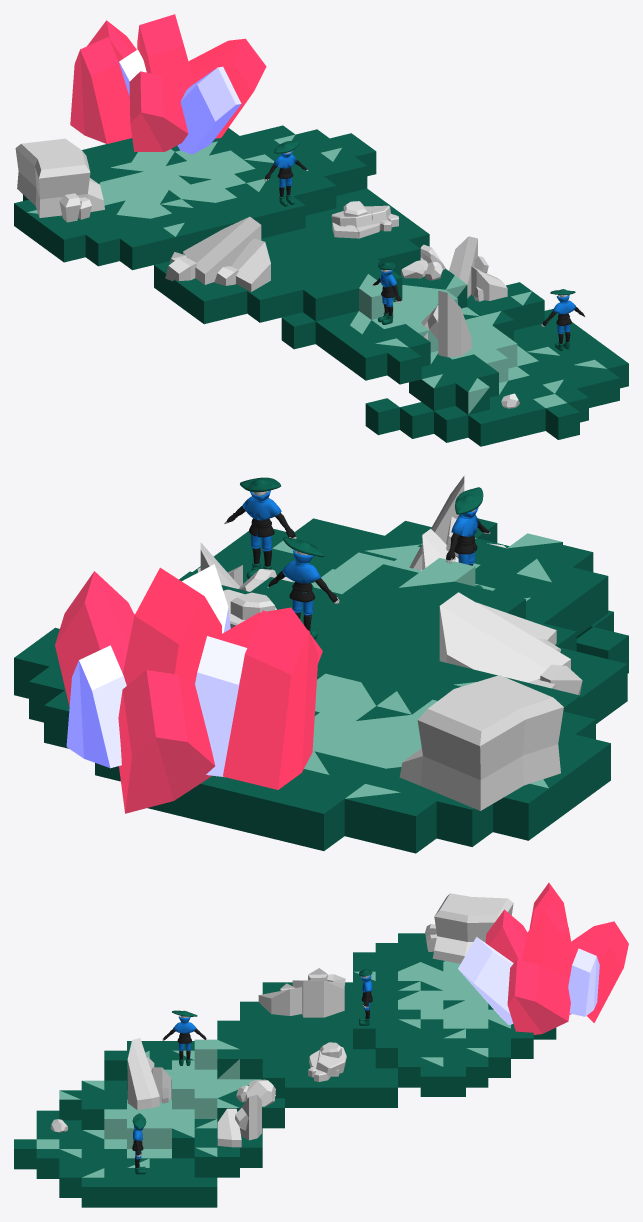
The model's file is Test Map_blocky_01_with perso 1.fbx.
The picture shows the model from 3 angles, top to bottom: view 1: azimuth 30°, elevation 25°; view 2: azimuth 150°, elevation 25°; view 3: azimuth 270°, elevation 25°; orthographic projection. The views are drawn at different scales.
Parts seen in each view (by area): view 1: Rock_Type3_04_mesh, Rock_Type6_03_mesh, Rock_Type5_01_mesh, Rock_Type5_03_mesh.001, Rock_Type5_03_mesh, Rock_Type1_01_mesh, PM3D_Sphere3D1_1, ground_basic.087, ground_basic.161, ground_basic.053, ground_basic.126, ground_basic.158 (+31 smaller); view 2: Rock_Type3_04_mesh, Rock_Type6_03_mesh, Rock_Type5_01_mesh, ground_basic.092, ground_basic.094, PM3D_Sphere3D1_1.002, ground_basic.090, PM3D_Sphere3D1_1, ground_basic.091, ground_rocky05.006, ground_basic.095, PM3D_Sphere3D1_1.001 (+68 smaller); view 3: Rock_Type3_04_mesh, Rock_Type6_03_mesh, Rock_Type5_01_mesh, Rock_Type5_03_mesh, Rock_Type5_03_mesh.001, Rock_Type1_01_mesh, PM3D_Sphere3D1_1.001, ground_basic.123, ground_basic.151, ground_basic.162, ground_rocky04, ground_rock.005 (+36 smaller).
Boxes of the visible parts, x1=… form: Rock_Type3_04_mesh: x1=70, y1=14, x2=266, y2=154; Rock_Type6_03_mesh: x1=15, y1=138, x2=104, y2=222; Rock_Type5_01_mesh: x1=165, y1=216, x2=270, y2=291; Rock_Type5_03_mesh.001: x1=449, y1=236, x2=507, y2=301; Rock_Type5_03_mesh: x1=421, y1=290, x2=471, y2=357; Rock_Type1_01_mesh: x1=331, y1=201, x2=398, y2=238; PM3D_Sphere3D1_1: x1=264, y1=141, x2=308, y2=206; ground_basic.087: x1=51, y1=225, x2=85, y2=262; ground_basic.161: x1=365, y1=398, x2=399, y2=435; ground_basic.053: x1=191, y1=287, x2=225, y2=324; ground_basic.126: x1=387, y1=347, x2=421, y2=384; ground_basic.158: x1=468, y1=409, x2=502, y2=446; Rock_Type3_04_mesh: x1=55, y1=564, x2=322, y2=813; Rock_Type6_03_mesh: x1=399, y1=675, x2=563, y2=810; Rock_Type5_01_mesh: x1=439, y1=592, x2=582, y2=695; ground_basic.092: x1=380, y1=792, x2=436, y2=853; ground_basic.094: x1=288, y1=790, x2=344, y2=850; PM3D_Sphere3D1_1.002: x1=224, y1=477, x2=296, y2=579; ground_basic.090: x1=493, y1=783, x2=549, y2=840; PM3D_Sphere3D1_1: x1=267, y1=537, x2=339, y2=639; ground_basic.091: x1=436, y1=796, x2=492, y2=846; ground_rocky05.006: x1=344, y1=784, x2=400, y2=844; ground_basic.095: x1=252, y1=784, x2=308, y2=842; PM3D_Sphere3D1_1.001: x1=445, y1=487, x2=490, y2=588; Rock_Type3_04_mesh: x1=458, y1=883, x2=628, y2=1034; Rock_Type6_03_mesh: x1=425, y1=893, x2=513, y2=963; Rock_Type5_01_mesh: x1=258, y1=968, x2=345, y2=1017; Rock_Type5_03_mesh: x1=127, y1=1038, x2=171, y2=1109; Rock_Type5_03_mesh.001: x1=217, y1=1094, x2=261, y2=1147; Rock_Type1_01_mesh: x1=308, y1=1042, x2=346, y2=1081; PM3D_Sphere3D1_1.001: x1=162, y1=1010, x2=206, y2=1065; ground_basic.123: x1=81, y1=1099, x2=104, y2=1129; ground_basic.151: x1=81, y1=1177, x2=104, y2=1207; ground_basic.162: x1=194, y1=1177, x2=217, y2=1207; ground_rocky04: x1=194, y1=1147, x2=217, y2=1177; ground_rock.005: x1=194, y1=1039, x2=217, y2=1069.
Size of the model in its own units: 1800 by 1026 by 2722.
